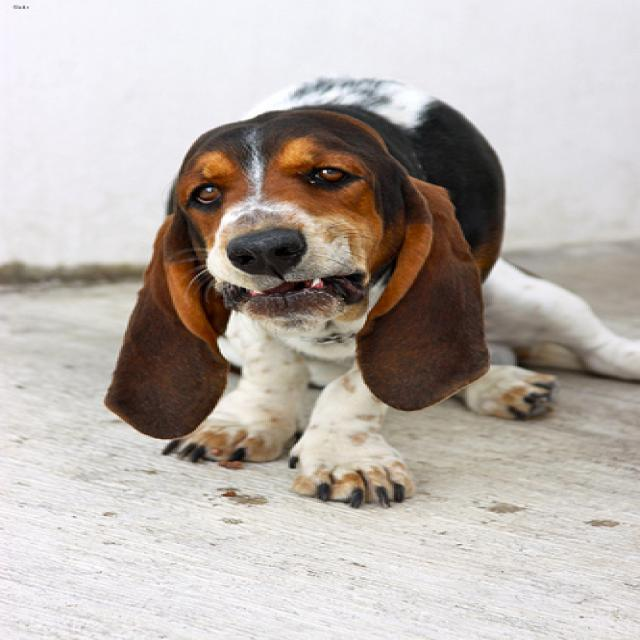dog-basset_hound: (85, 63, 636, 515)
